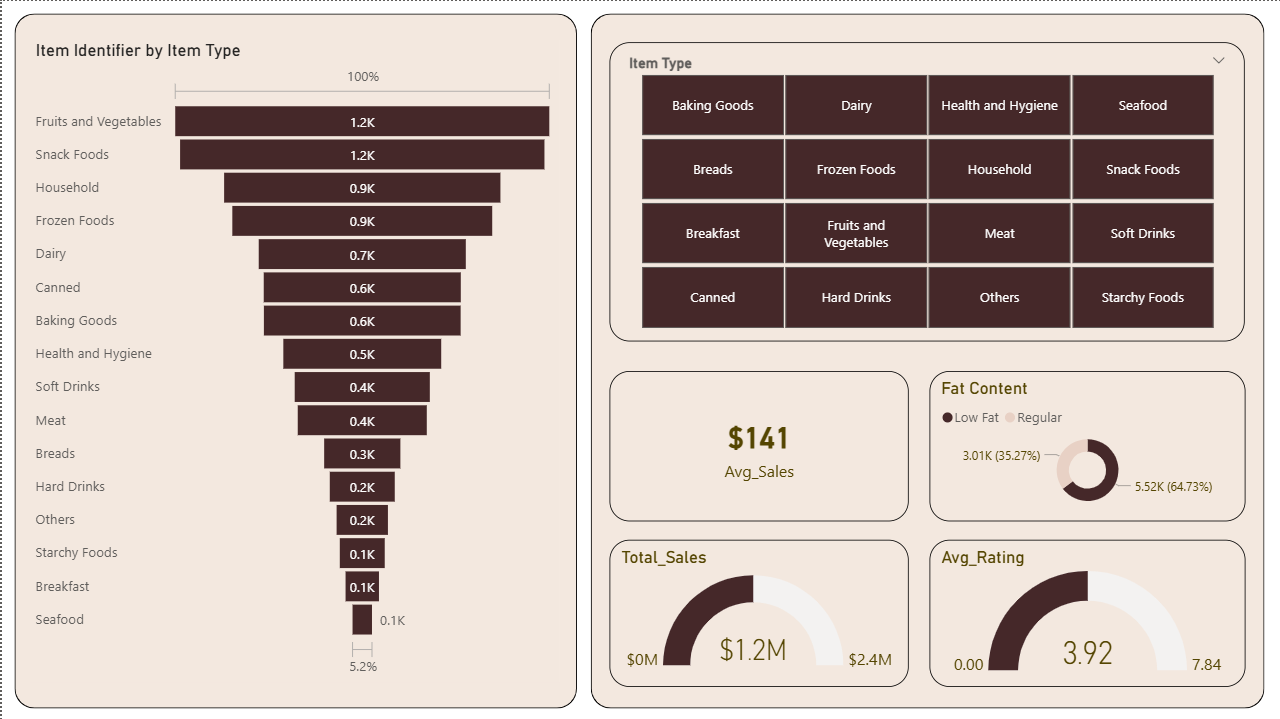

What the dashboard file says about the page in this screenshot:
{"tool":"powerbi","page":{"name":"Page 2","canvas":[1280,720],"ordinal":1},"visuals":[{"type":"shape","box":[588.8,12.5,673.8,695],"z":0},{"type":"shape","box":[12.5,12.5,562.5,695],"z":1000},{"type":"funnel","fields":{"Category":["Grofast.Item Type"],"Y":["CountNonNull(Grofast.Item Identifier)"]},"box":[28.8,38.8,528.8,642.5],"z":2000},{"type":"slicer","fields":{"Values":["Grofast.Item Type"]},"box":[607.9,40.9,635.1,299.6],"z":3000},{"type":"card","fields":{"Values":["Measure_Table.Avg_Sales"]},"box":[607.9,370.6,299.6,150.8],"z":4000},{"type":"donutChart","title":"Fat Content","fields":{"Category":["Grofast.Item Fat Content"],"Y":["CountNonNull(Grofast.Item Fat Content)"]},"box":[926.9,370.6,316.1,150.8],"z":5000},{"type":"gauge","fields":{"Y":["Measure_Table.Total_Sales"]},"box":[607.9,538.8,299.6,146.9],"z":6000},{"type":"gauge","fields":{"Y":["Measure_Table.Avg_Rating"]},"box":[927.5,538.8,316.2,147.5],"z":6001}]}

Visuals, with their boxes in screenshot pixels (x1, y1, x2, y2), scaled from the page's 1280x720 canvas onto the 1280x719 screenshot:
shape: locate(589, 12, 1263, 707)
shape: locate(12, 12, 575, 707)
funnel - Grofast.Item Type x CountNonNull(Grofast.Item Identifier): locate(29, 39, 558, 680)
slicer - Grofast.Item Type: locate(608, 41, 1243, 340)
card - Measure_Table.Avg_Sales: locate(608, 370, 908, 521)
"Fat Content" donutChart: locate(927, 370, 1243, 521)
gauge - Measure_Table.Total_Sales: locate(608, 538, 908, 685)
gauge - Measure_Table.Avg_Rating: locate(928, 538, 1244, 685)
